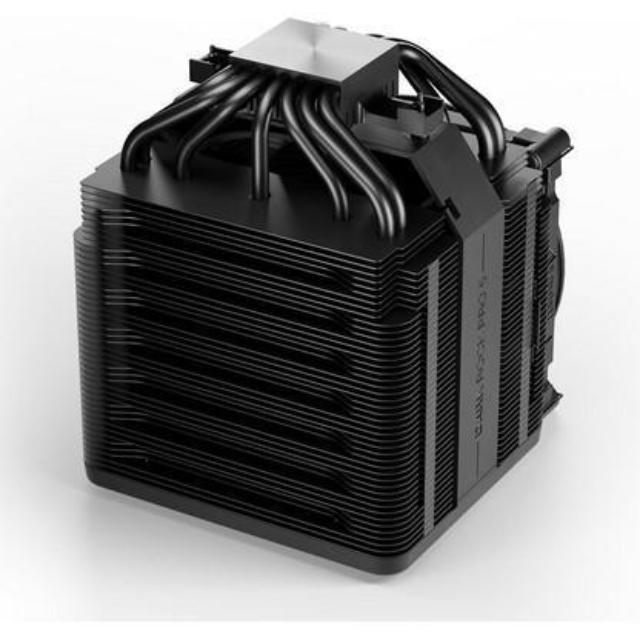CPU_Fan: (70, 9, 572, 577)
